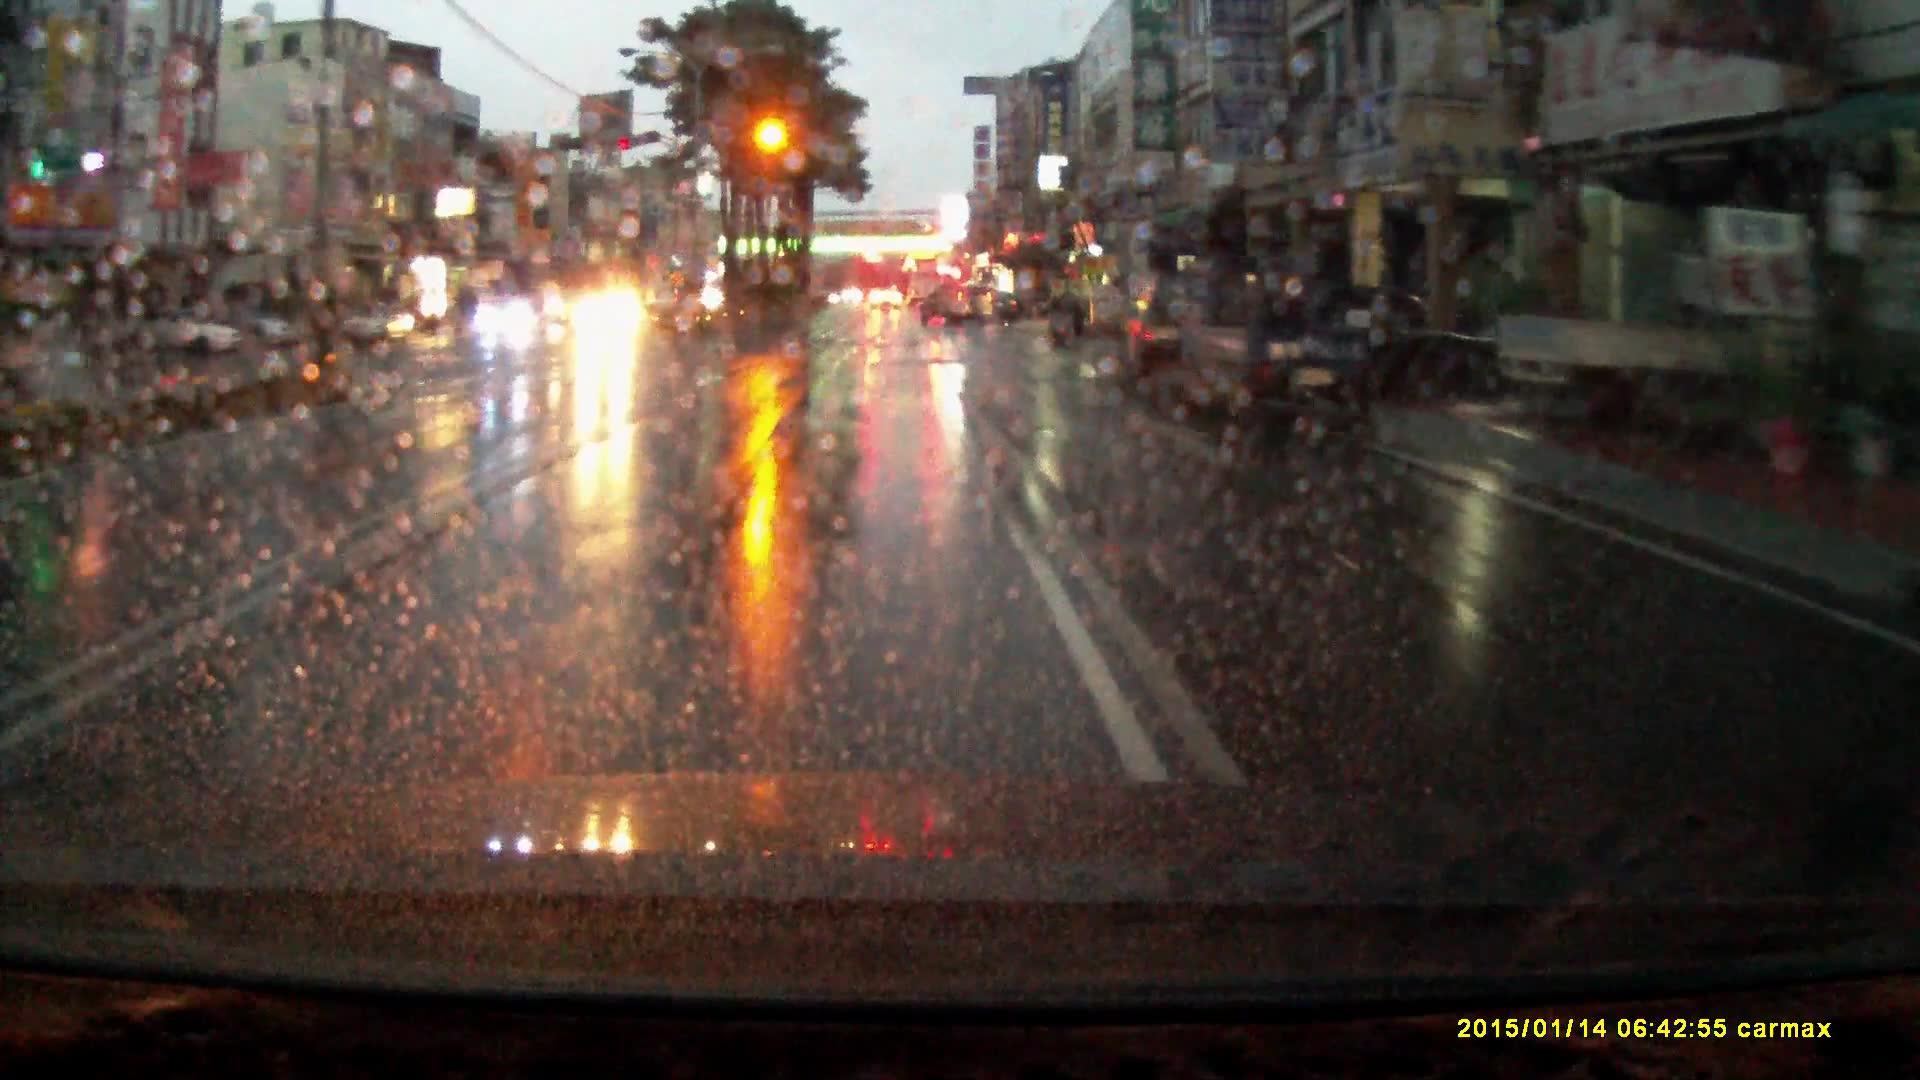vehicle: (1501, 264, 1857, 447), (1184, 249, 1378, 419), (1127, 269, 1192, 402), (121, 310, 247, 361), (571, 287, 649, 345), (345, 301, 414, 353), (922, 284, 998, 328), (225, 307, 291, 353), (477, 295, 541, 342), (909, 258, 945, 305), (868, 287, 905, 313), (993, 293, 1019, 322)
